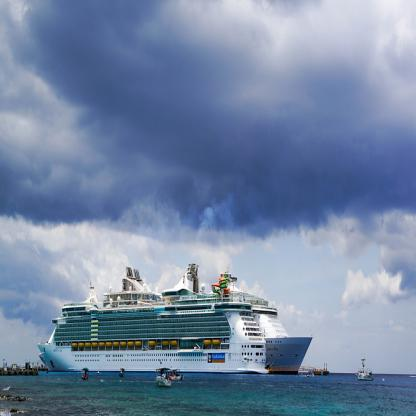Fishing Boat: (156, 368, 172, 388)
